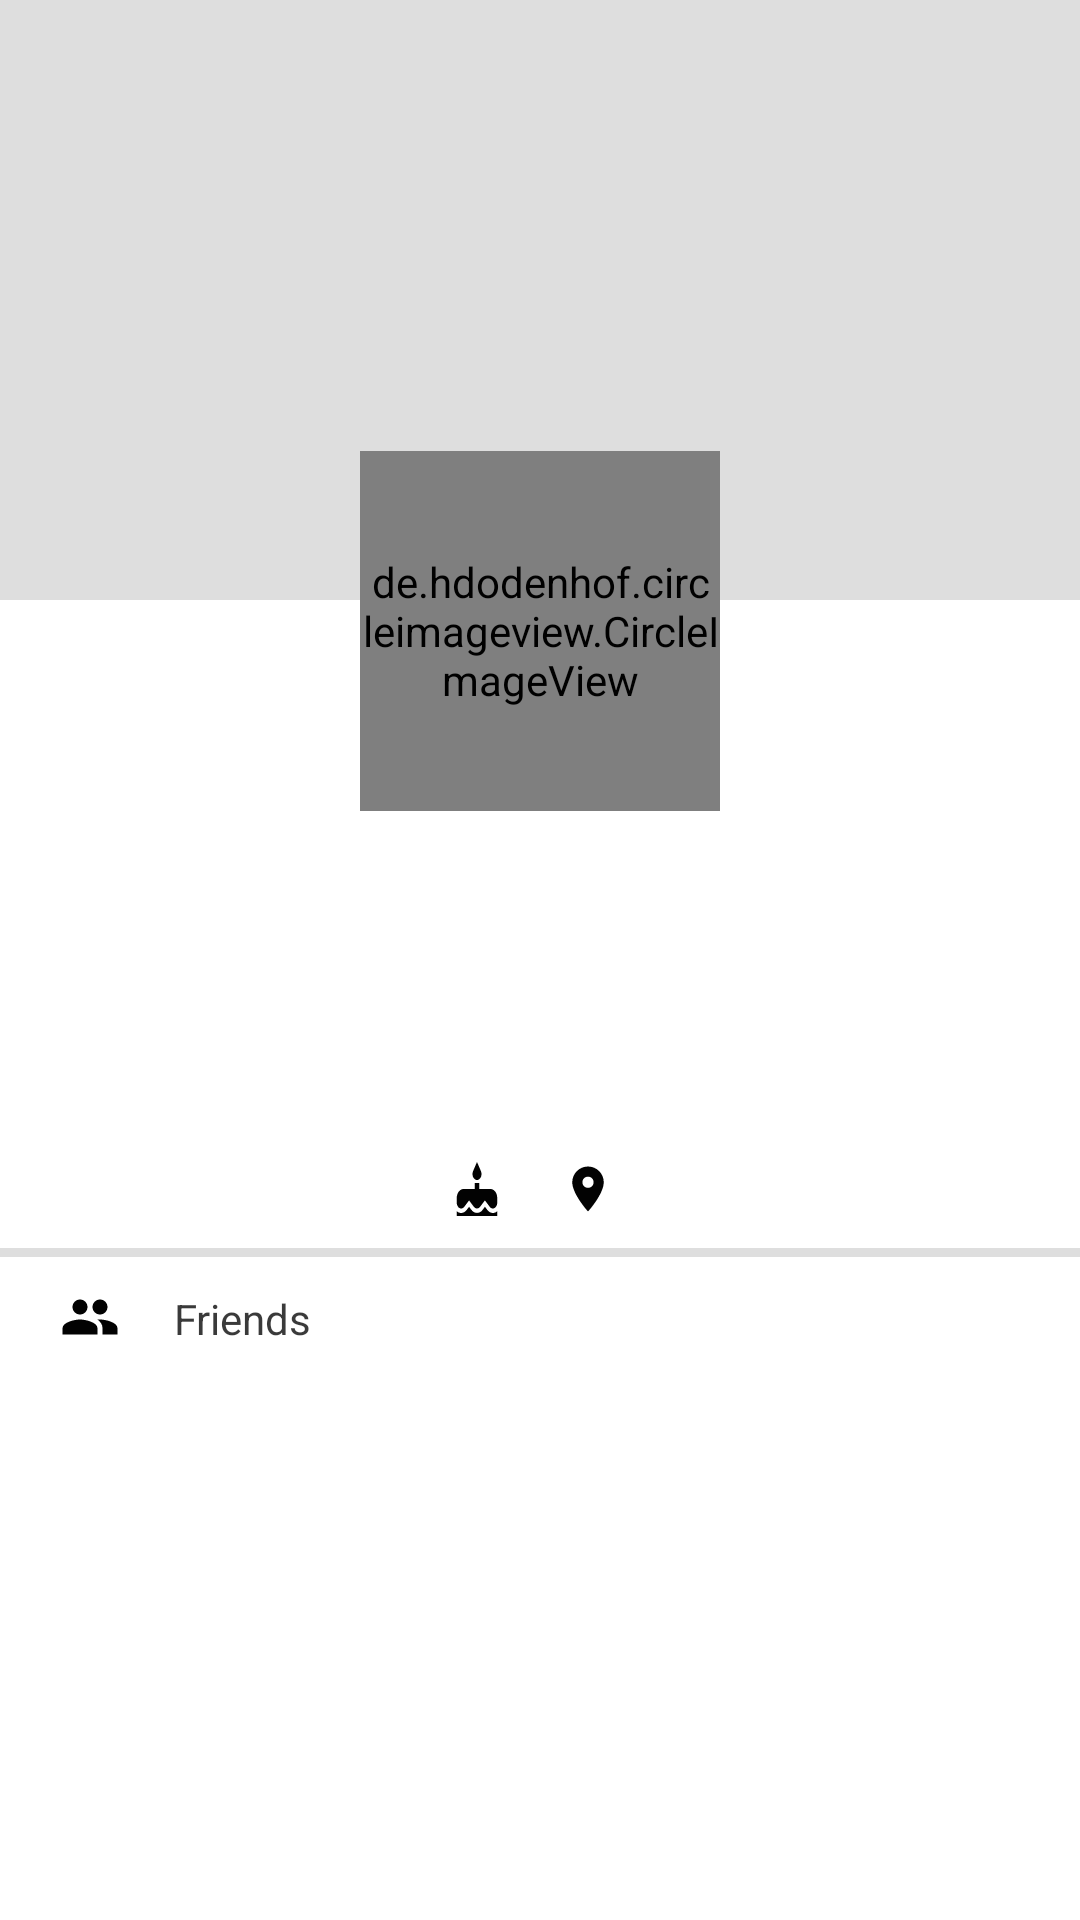

Point at icon controls on the screen. Image size 1080px×1920px, points as [x,y].
people: [90,1317]
